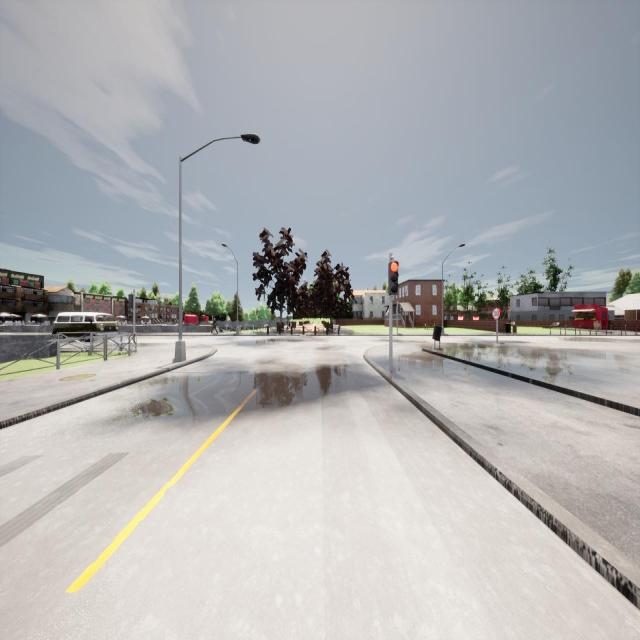Pedestrian: (211, 316, 218, 334)
Traffic_Signs: (492, 307, 501, 320)
Vehicle: (52, 312, 118, 341)
traffic_light: (388, 262, 399, 295), (128, 294, 134, 310), (398, 304, 402, 314)
